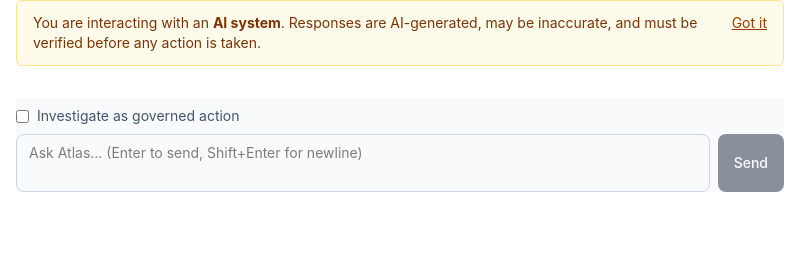
Test: ChatPage › renders a friendly error on a 402 budget response
Type "anything" into the text box named "Ask a question" at (363, 163), box top-left (16, 134), bottom-right (710, 192)
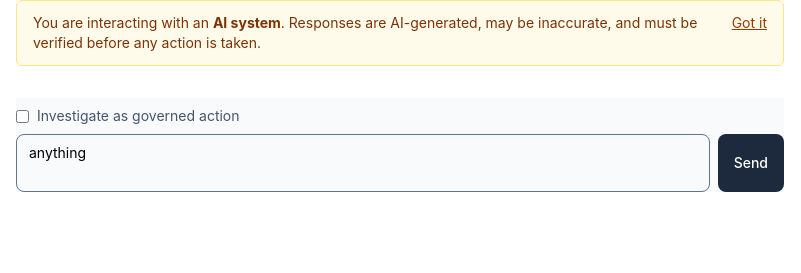
Click the button "Send" at (751, 163), box top-left (718, 134), bottom-right (784, 192)
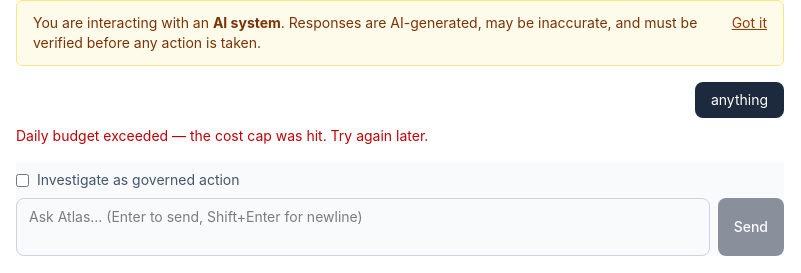
Check: the message shows "budget exceeded", box top-left (16, 127), bottom-right (428, 144)
